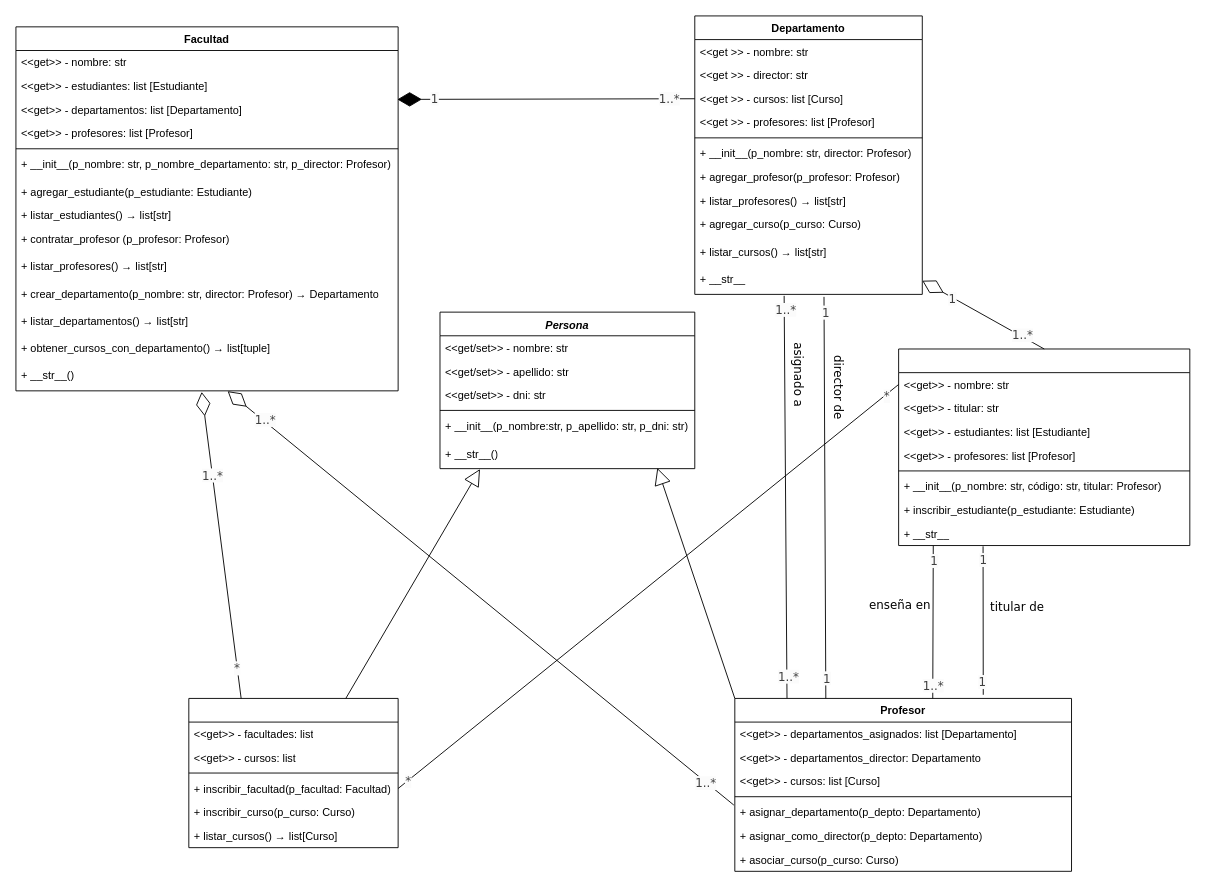
Some shapes in this 1206 by 890 pixel diagram are drawn without their labels. Each missing label, with the box of its shape:
Curso: (898, 348, 1190, 546)
Estudiante: (188, 698, 398, 848)
